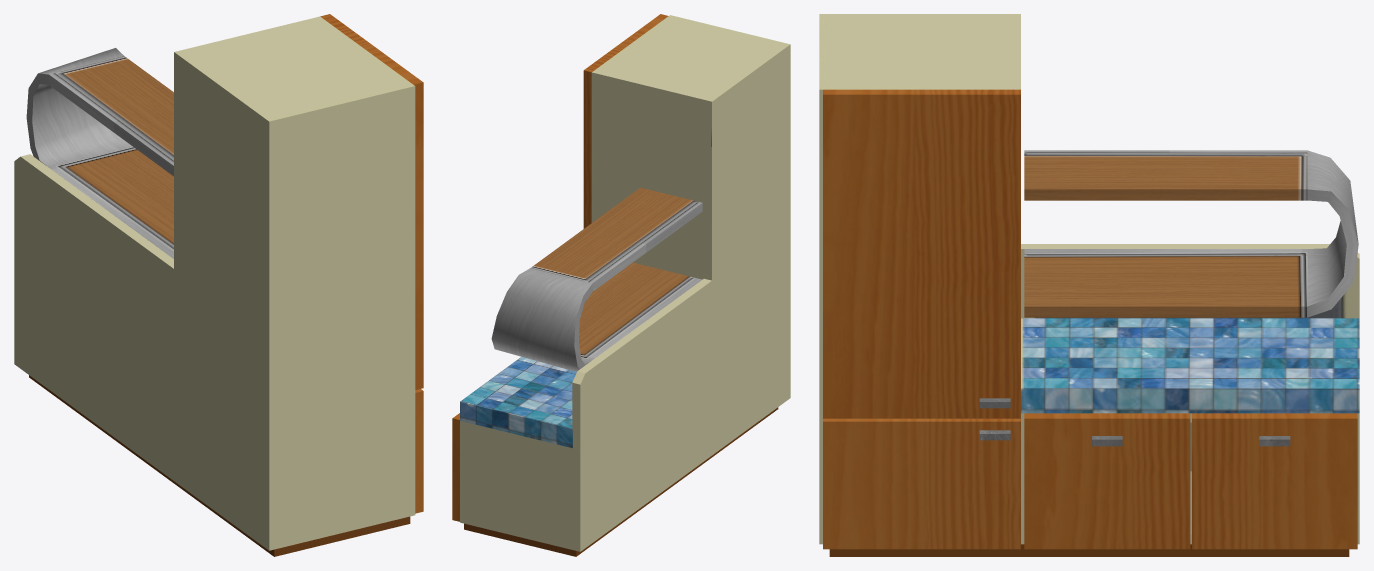
The model's file is ModKitchenCupboard.fbx.
3 renders of one model, left to right at view 1: azimuth 30°, elevation 25°; view 2: azimuth 150°, elevation 25°; view 3: azimuth 270°, elevation 25°, orthographic. The views are drawn at different scales.
Parts seen in each view (by area): view 1: polySurface14, polySurface6, polySurface7; view 2: polySurface14, polySurface6, polySurface11; view 3: polySurface14, polySurface6, polySurface7, polySurface13, polySurface11.
Boxes of the visible parts, bbox=[...] form: polySurface14: bbox=[14, 16, 415, 556]; polySurface6: bbox=[320, 14, 423, 389]; polySurface7: bbox=[415, 389, 423, 513]; polySurface14: bbox=[460, 15, 790, 556]; polySurface6: bbox=[583, 14, 668, 228]; polySurface11: bbox=[452, 413, 459, 521]; polySurface14: bbox=[819, 14, 1359, 556]; polySurface6: bbox=[823, 89, 1020, 418]; polySurface7: bbox=[823, 418, 1020, 549]; polySurface13: bbox=[1024, 413, 1190, 549]; polySurface11: bbox=[1192, 413, 1357, 549].
Size of the model in its own units: 1.98 by 5.12 by 5.36.
1 material, 1 textured.
